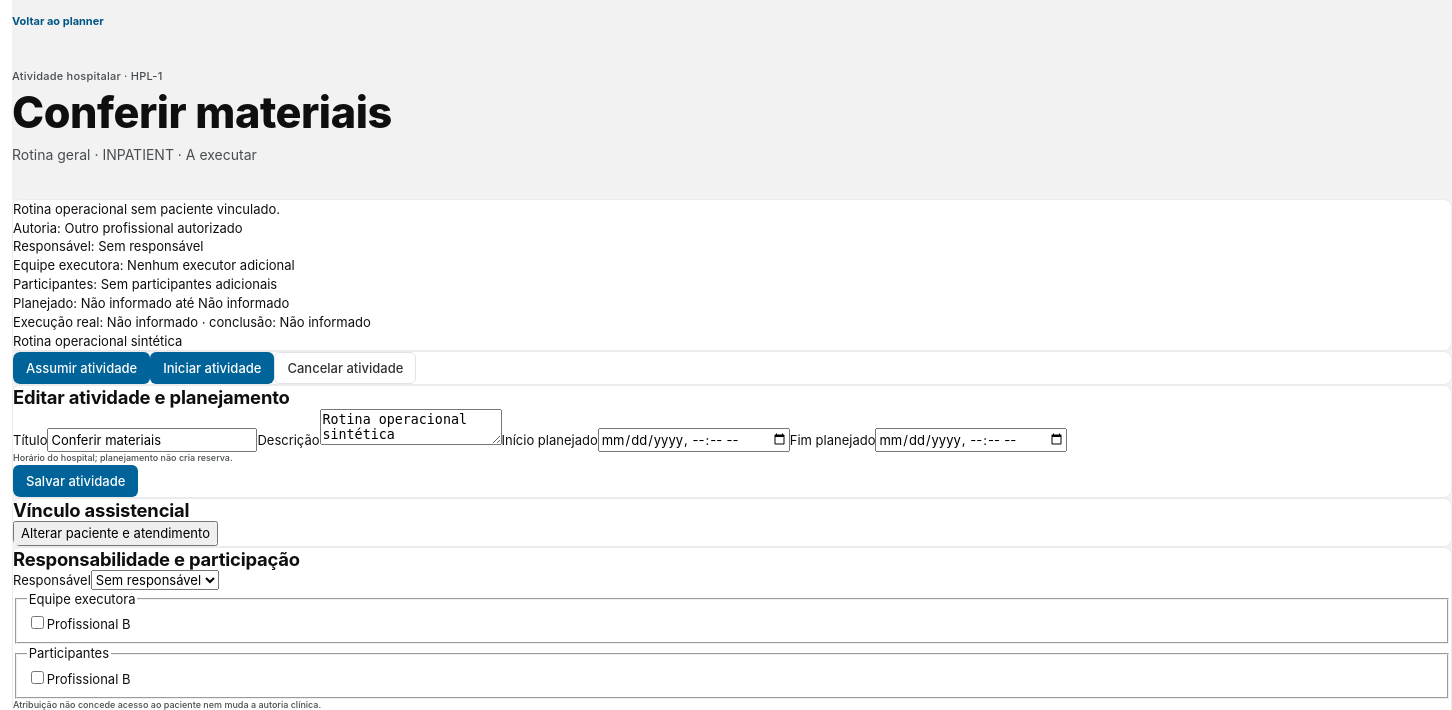
assumes explicitly, starts with the task's configured state and completes through its own commands
The width and height of the screenshot is (1452, 710).
Click the button "Assumir atividade".
click(82, 368)  # box [13,352,150,384]
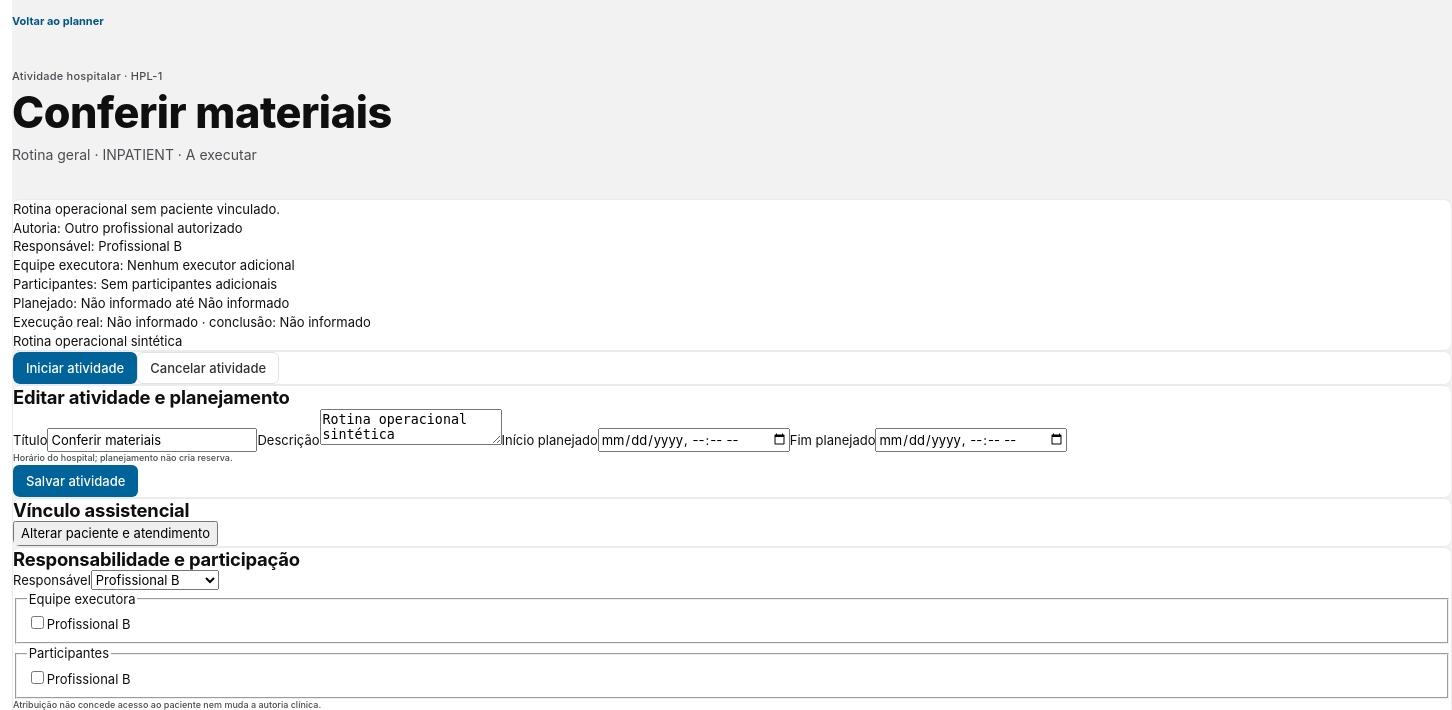
Result: the button "Assumir atividade" is gone
Click the button "Iniciar atividade".
click(75, 368)  # box [13,352,137,384]
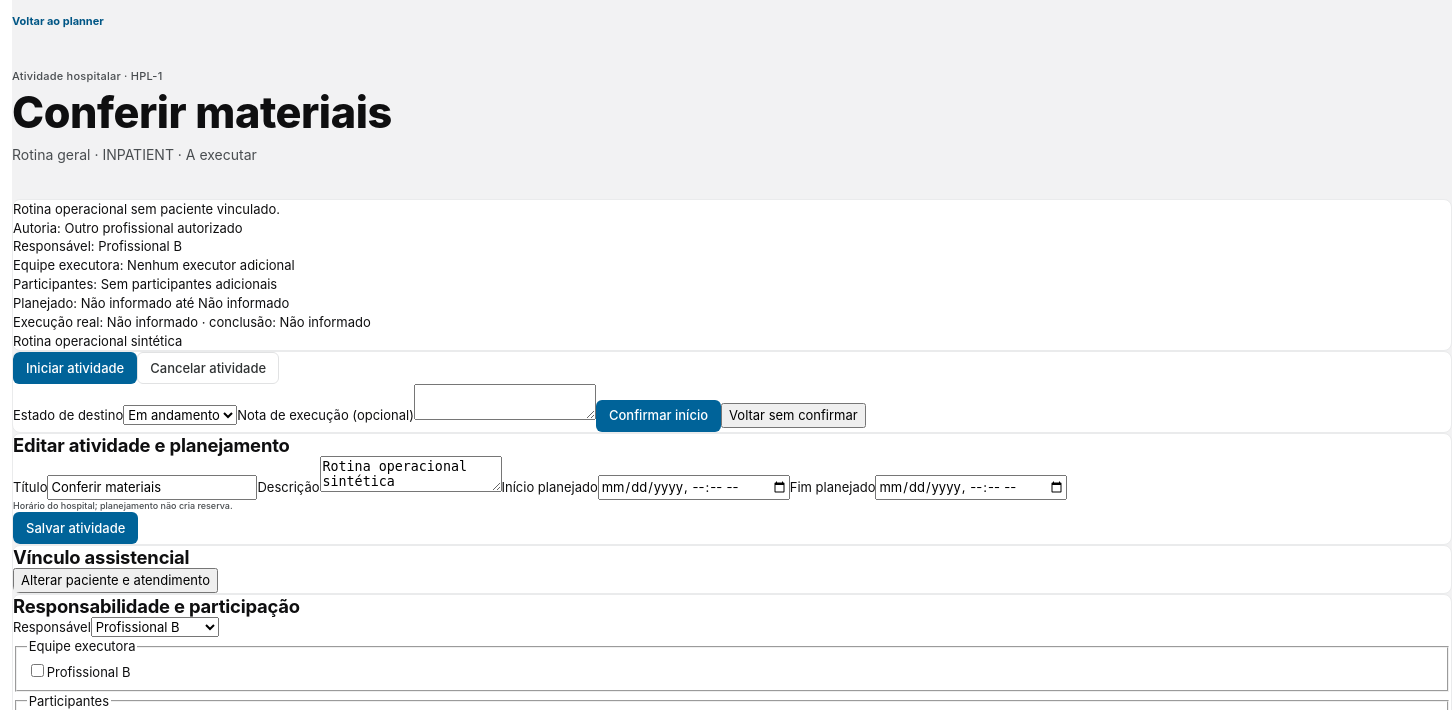
Result: the dropdown labelled "Estado de destino" shows "Em andamento" at [123,405,237,425]
Click the button "Confirmar início".
click(658, 416)  # box [596,400,721,432]
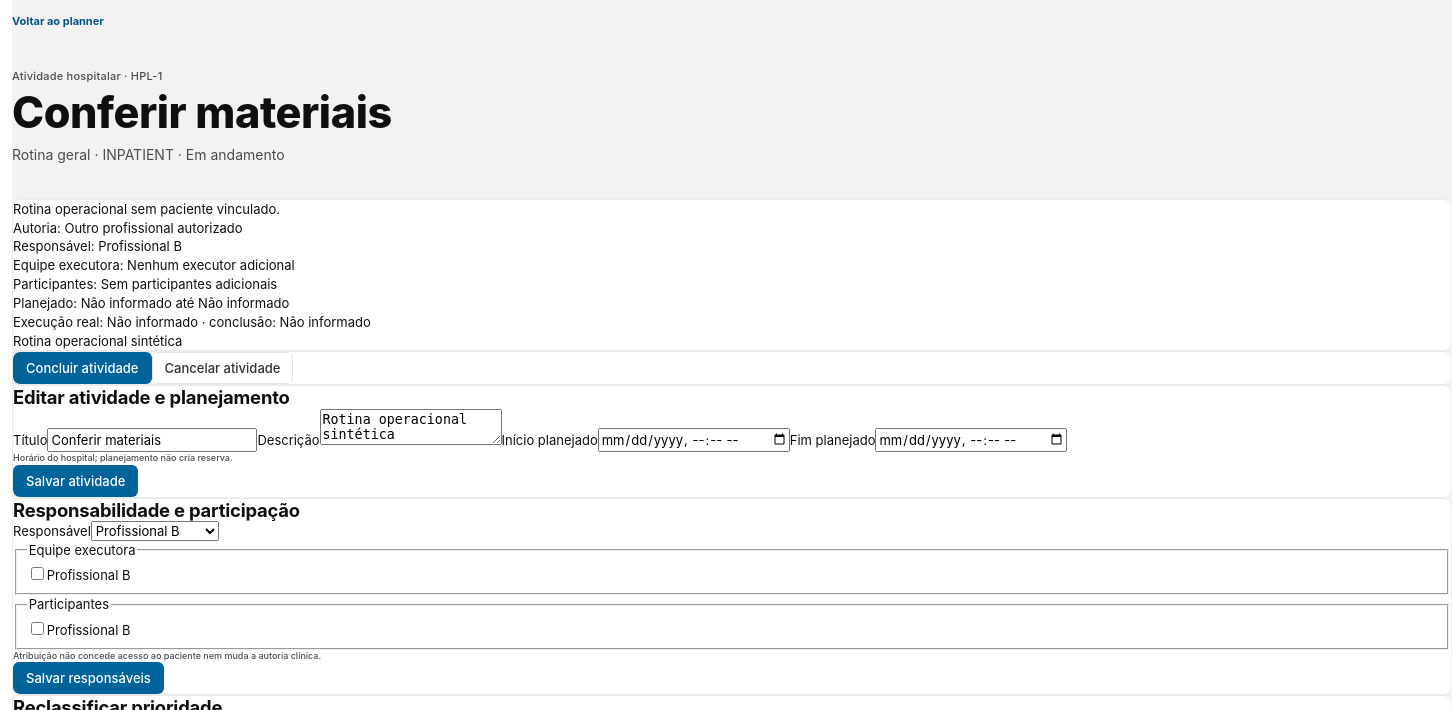
Click the button "Concluir atividade".
click(82, 368)  # box [13,352,152,384]
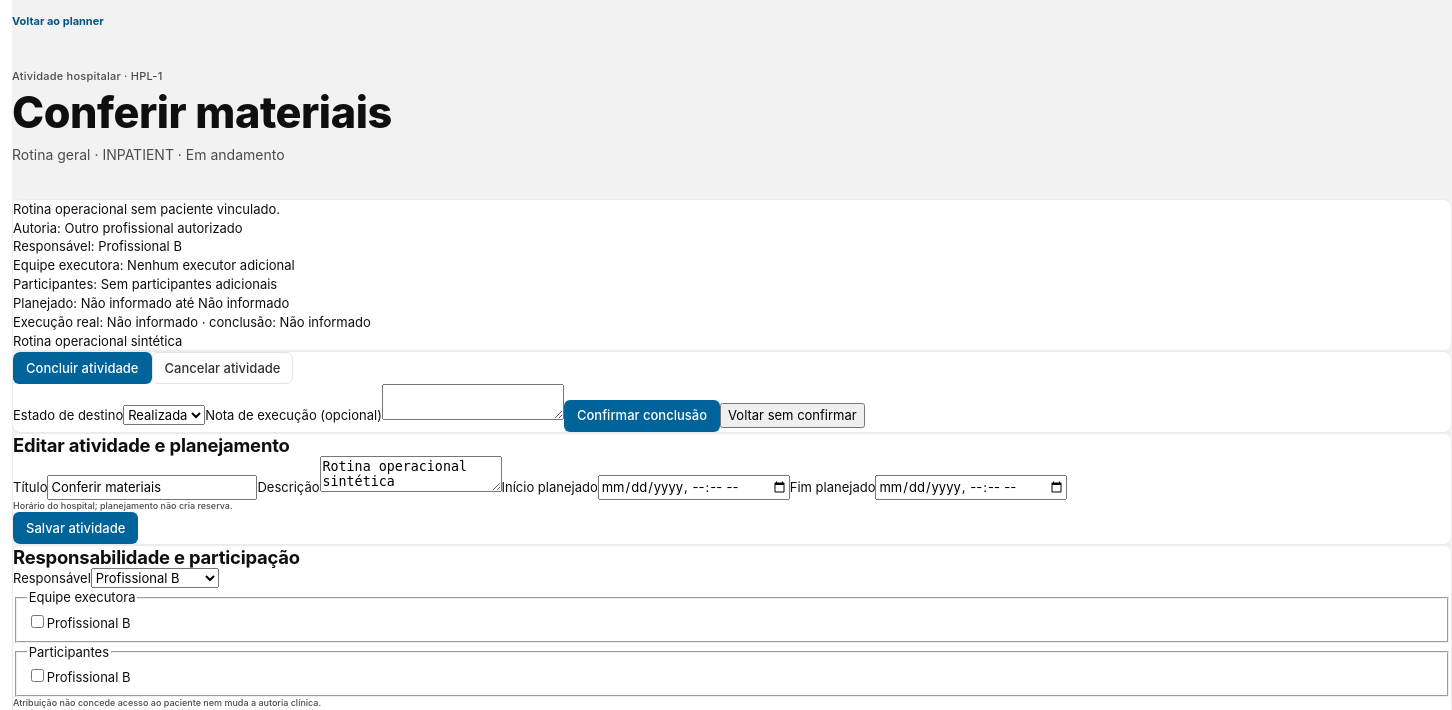
Type "Rotina conferida" into the text box labelled "Nota de execução (opcional)".
click(473, 402); type("Rotina conferida")  # box [382,384,564,420]
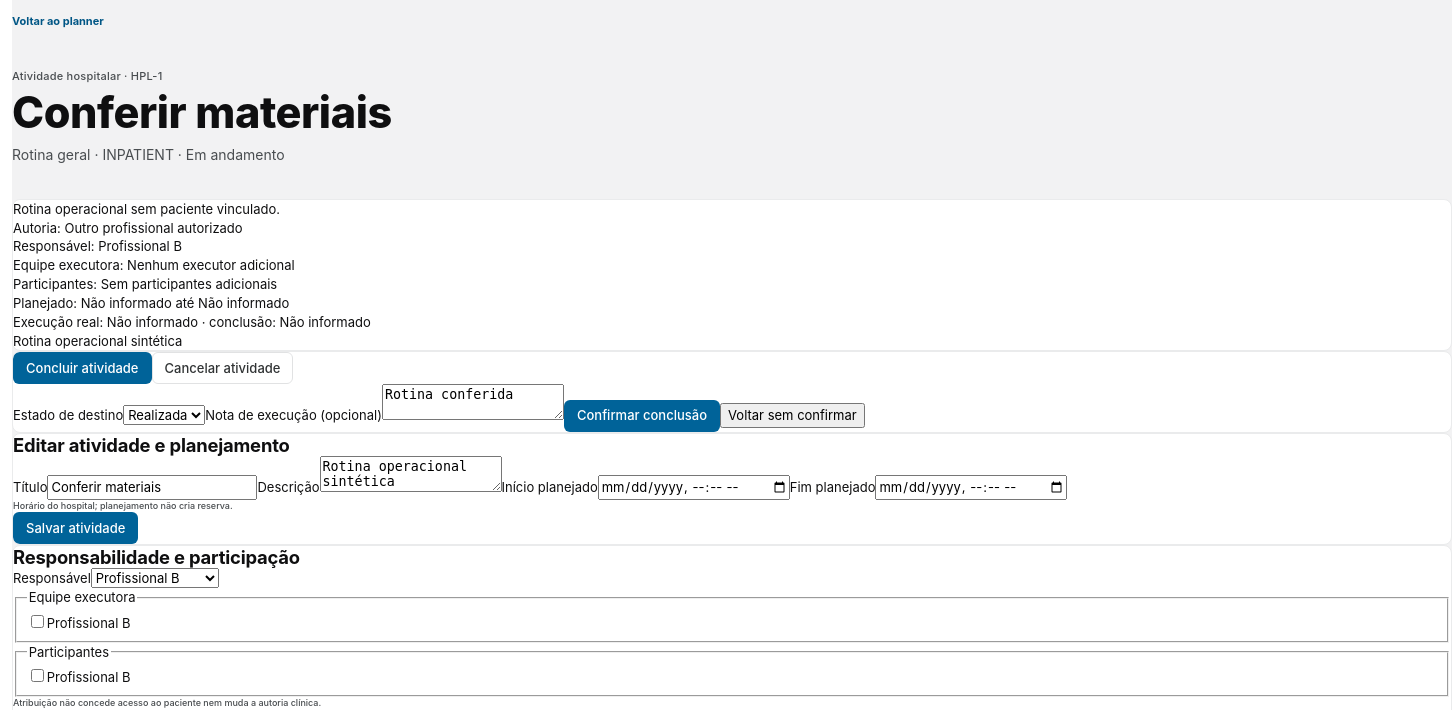
Click the button "Confirmar conclusão".
click(642, 416)  # box [564,400,720,432]
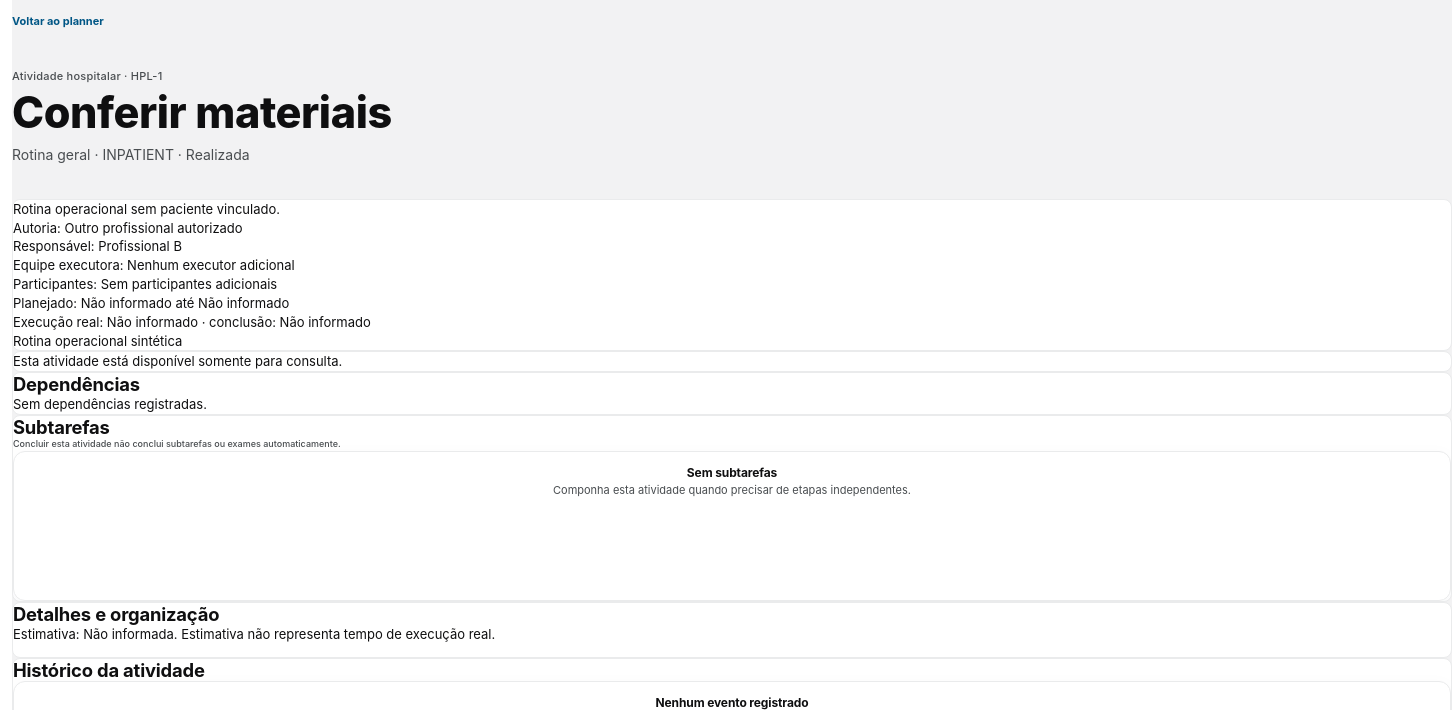
Result: the text "Esta atividade está disponível somente para consulta." is shown at [13,353,342,369]
